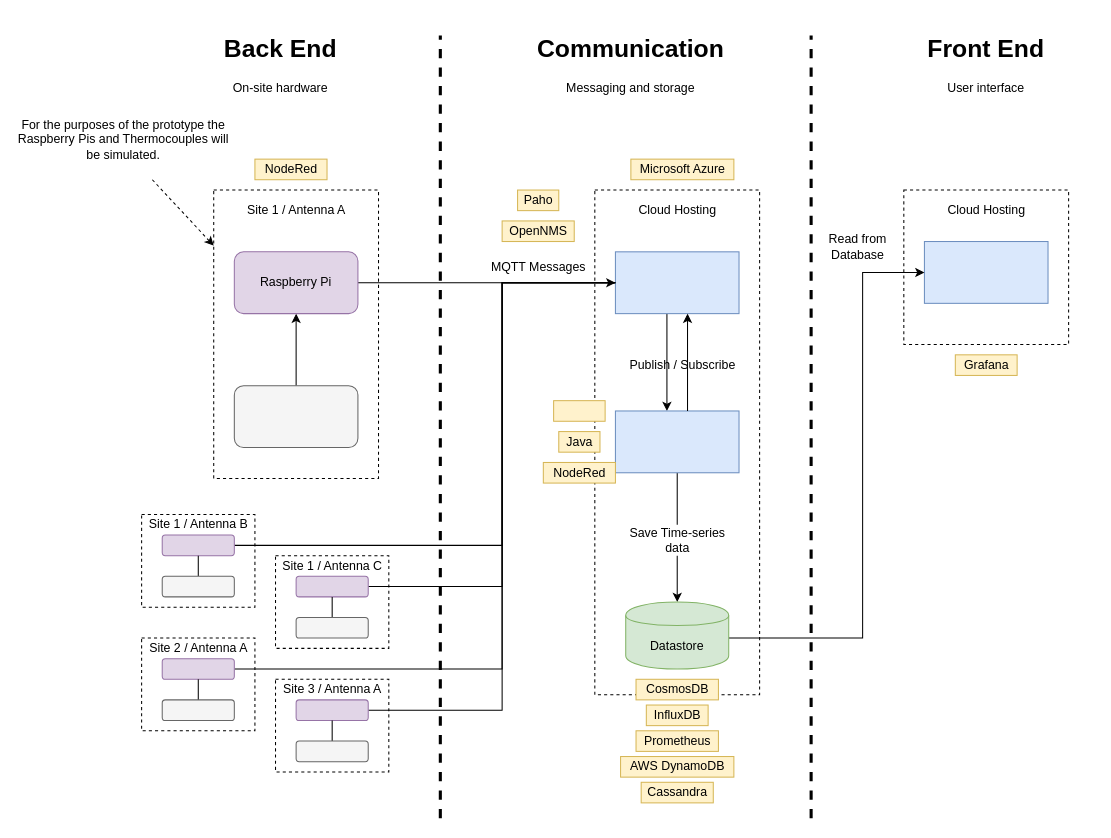
The diagram is 1111 pixels wide and 838 high, and some of its shapes have lost their labels. The centre of each missing label's shape, as x and y in pixels:
"MQTT Broker" goes at point (676, 282).
"MQTT Client" goes at point (676, 441).
"Python" goes at point (579, 410).
"Themocouple(s) & Flow sensor(s)" goes at point (295, 416).
"Visualisation" goes at point (985, 272).
